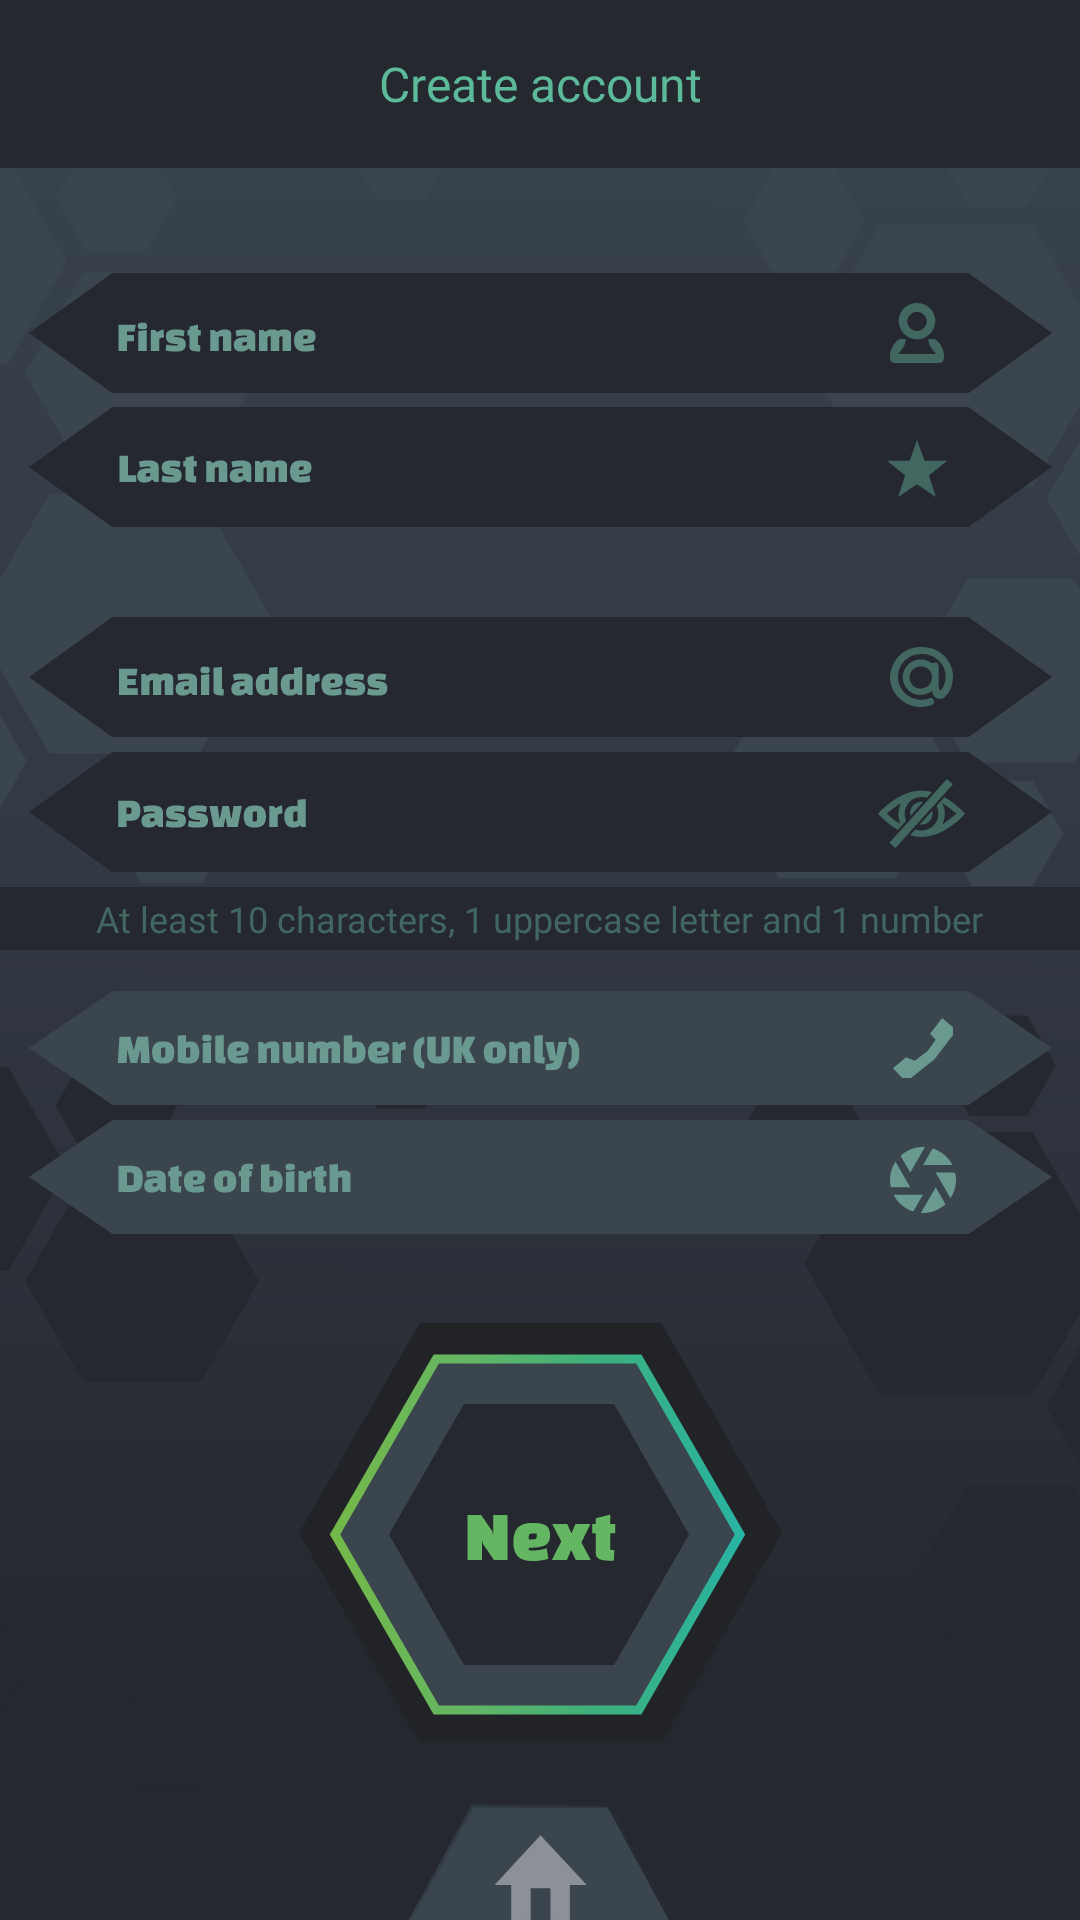

Named icons in this screenshot (1080 × 1920) and their bounding boxes, (left=x1, top=y1, right=x2, bottom=y2):
home: (left=409, top=1807, right=668, bottom=1920)
